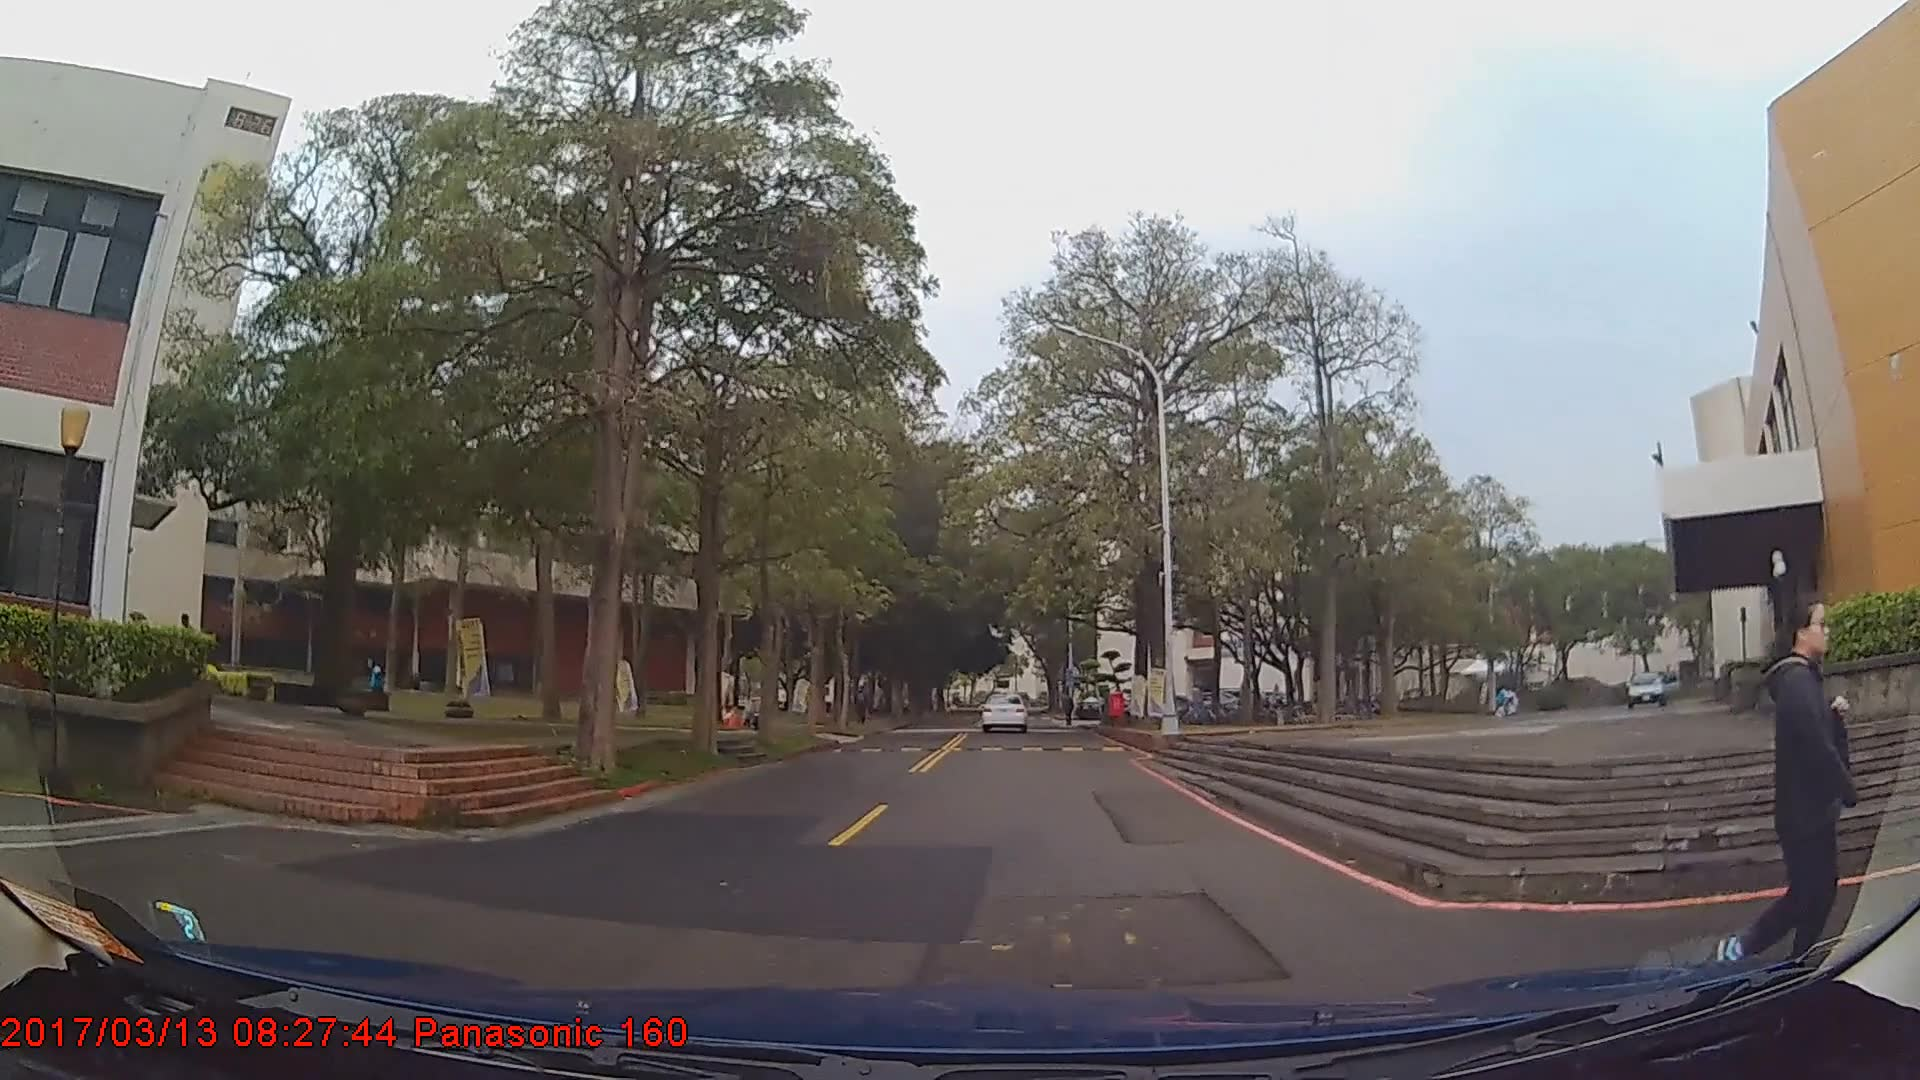pedestrian: (1706, 578, 1876, 994)
vehicle: (1620, 665, 1682, 705), (978, 688, 1026, 731)
